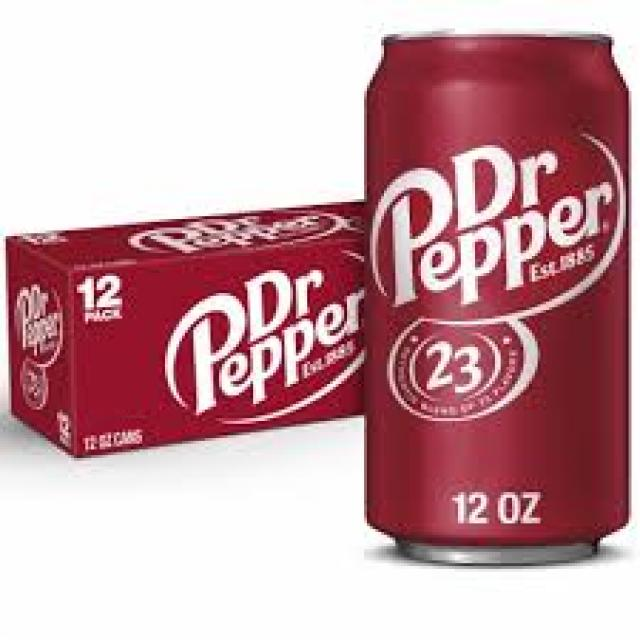Cans: (350, 20, 637, 563)
